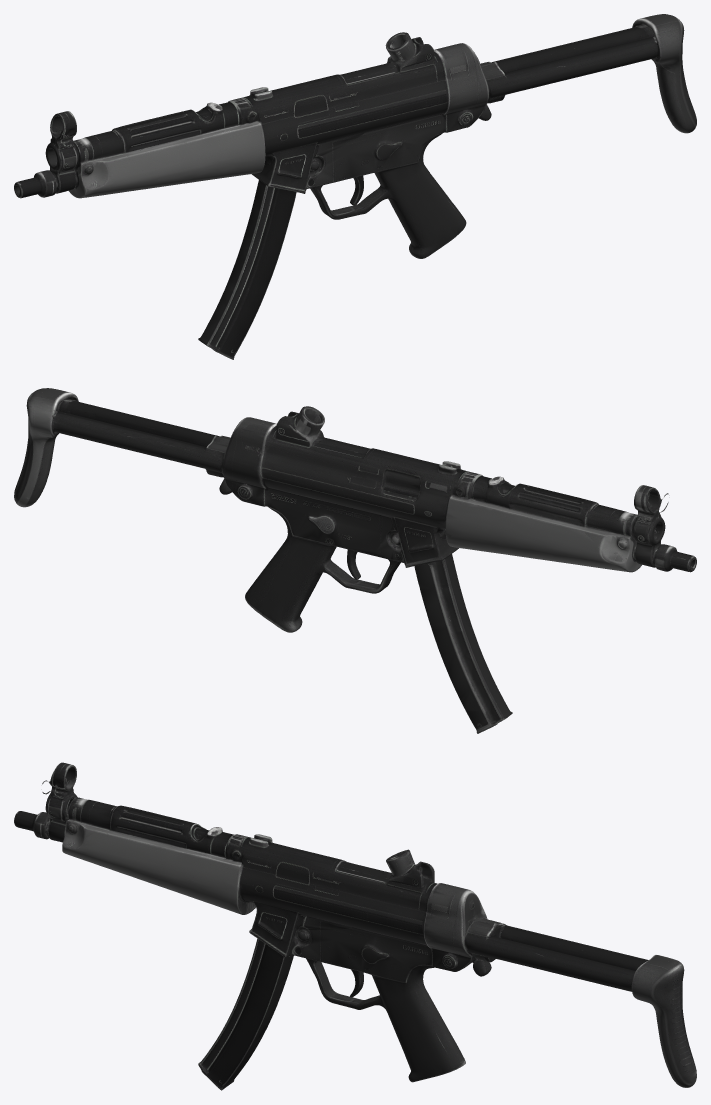
File: Meshy_AI_mp5_0807085408_texture.glb
The picture shows the model from 3 angles, top to bottom: view 1: azimuth 30°, elevation 25°; view 2: azimuth 150°, elevation 25°; view 3: azimuth 330°, elevation 25°; orthographic projection.
Parts seen in each view (by area): view 1: Mesh1.0; view 2: Mesh1.0; view 3: Mesh1.0.
Part boxes in pixels (x1,y1,x2,y2): Mesh1.0: [14, 14, 696, 359]; Mesh1.0: [14, 388, 696, 733]; Mesh1.0: [14, 762, 696, 1090].
Size of the model in its own units: 1.9 by 0.7551 by 0.1401.
Materials: 1 (1 with a texture image).
